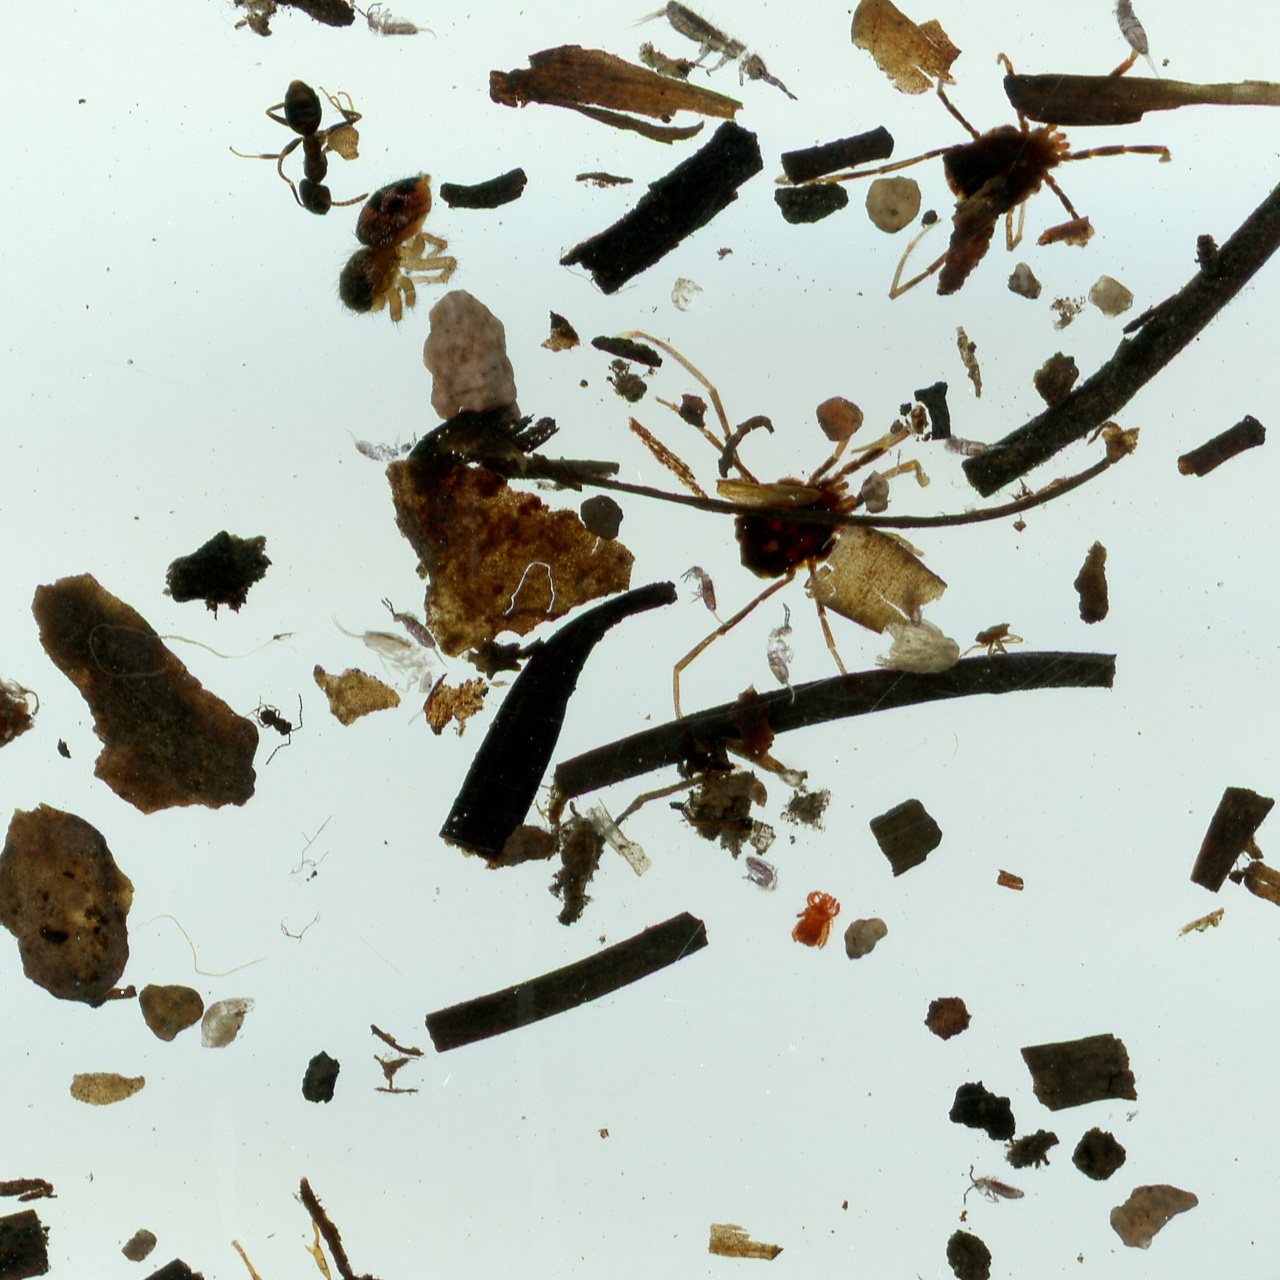arthropod: (529, 328, 1141, 722), (770, 45, 1175, 304), (311, 149, 500, 357), (614, 0, 821, 125), (300, 587, 456, 733), (222, 76, 372, 217), (203, 1214, 415, 1280), (226, 673, 321, 775), (374, 587, 461, 673), (1102, 0, 1168, 88), (784, 880, 848, 956), (347, 0, 441, 45), (678, 564, 737, 631), (961, 1160, 1033, 1212), (763, 602, 797, 706), (338, 421, 420, 464), (959, 620, 1024, 661), (942, 432, 1012, 461), (739, 854, 780, 893)
